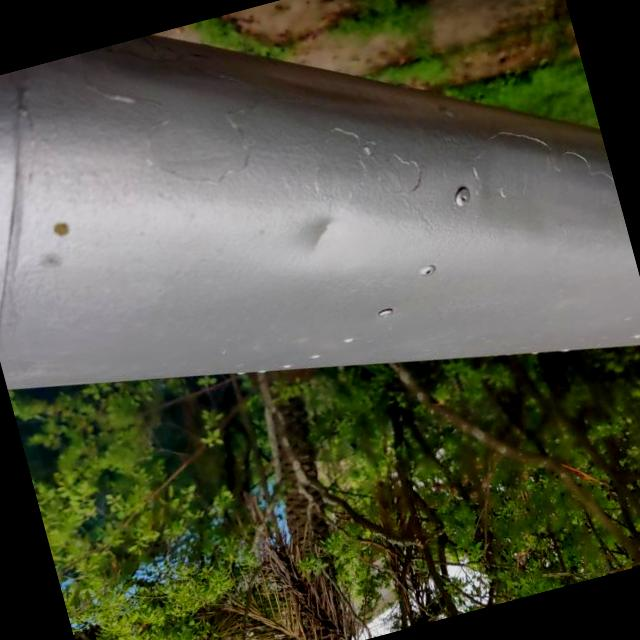dent: (270, 190, 366, 282)
